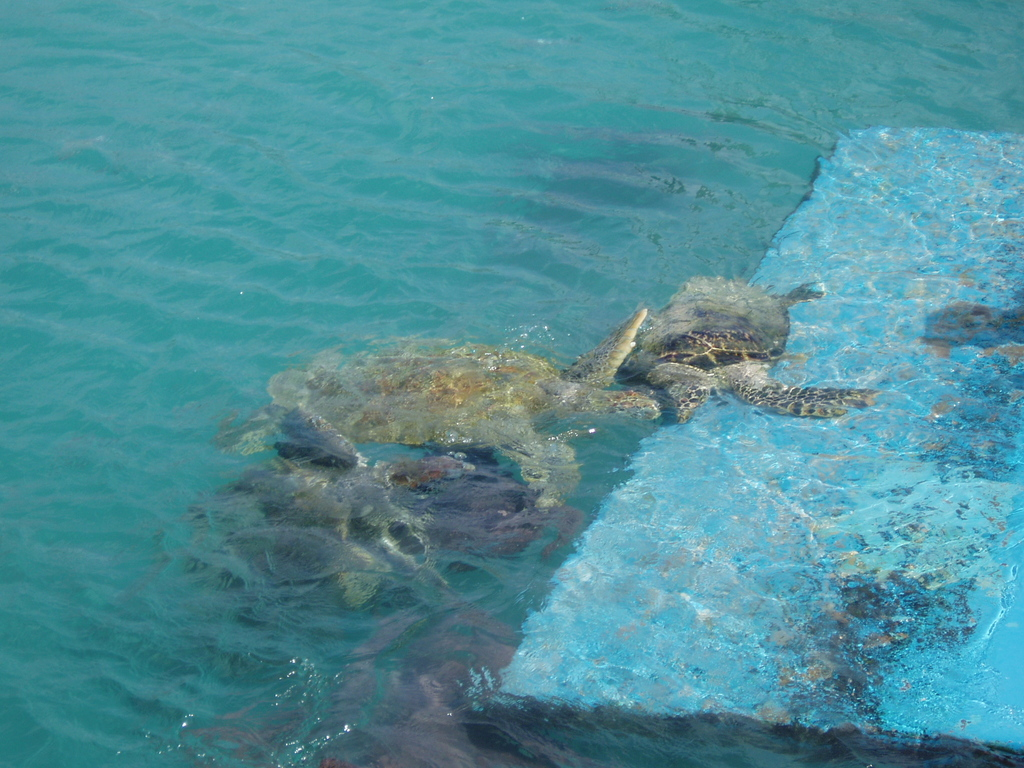Sea turtles: (217, 311, 664, 494), (610, 266, 879, 423)
